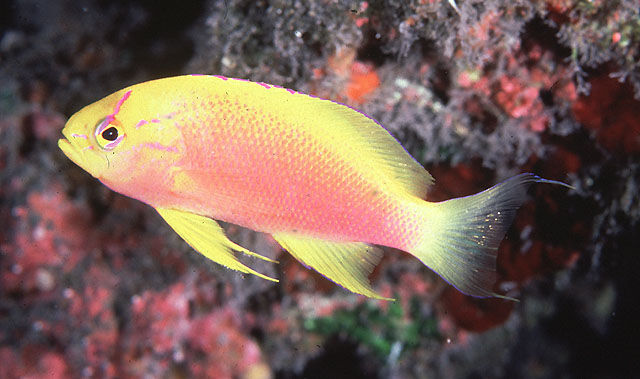fish: (57, 74, 576, 302)
